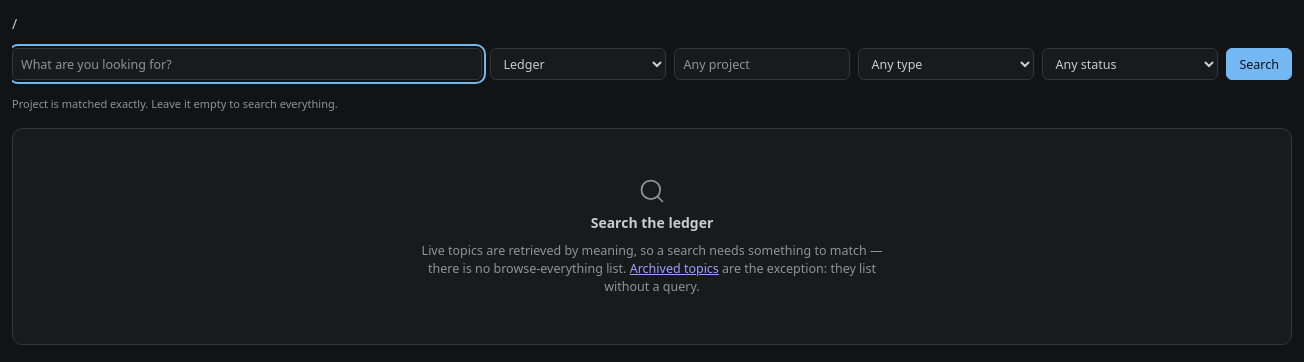
it: SearchView › puts the query and filters in the address so a result set can be sent to someone
Type "same origin" into the search field named "Search the ledger" at (247,64), box [12, 48, 482, 80]
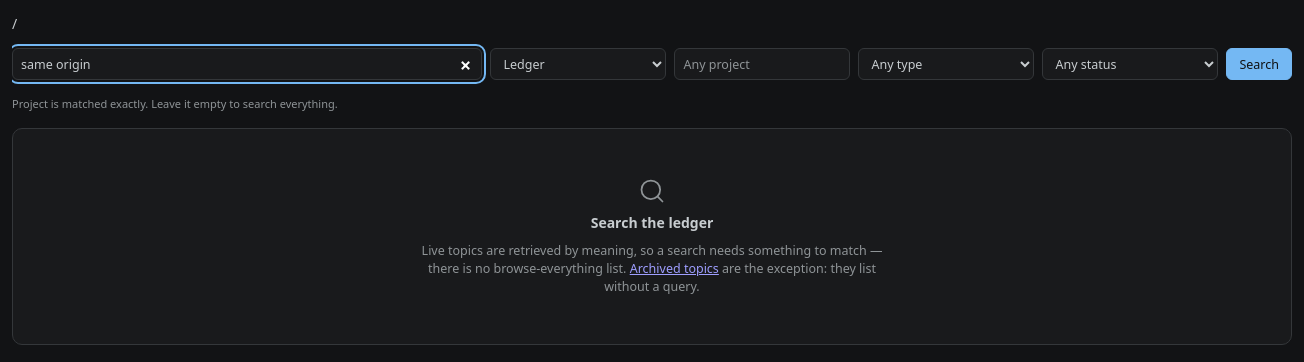
Select "Accepted" in the dropdown named "Status" at (1130,64), box [1042, 48, 1218, 80]
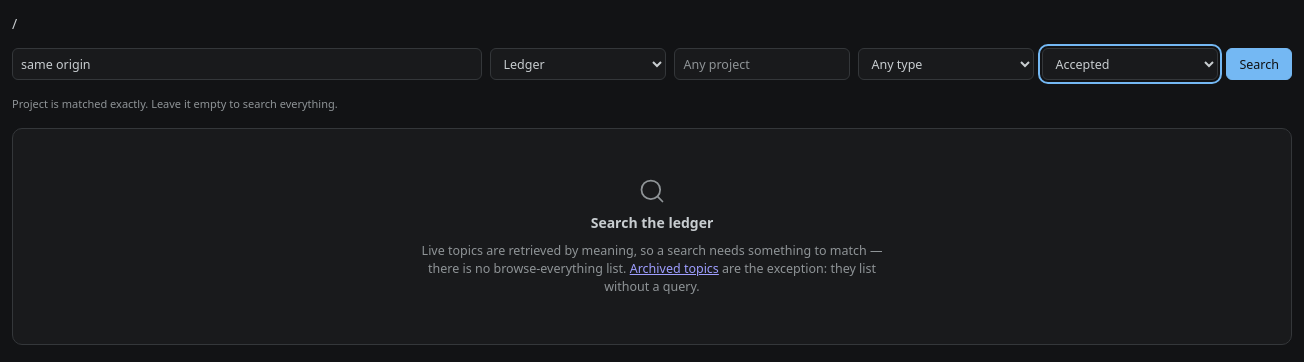
Click the button "Search" at (1259,64), box [1226, 48, 1292, 80]
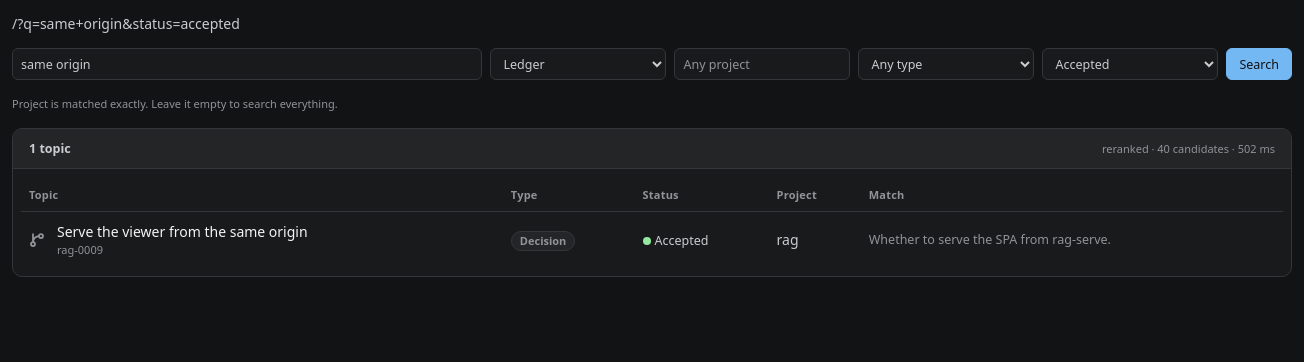
Expected: the text with test id "address" shows "q=same+origin&status=accepted", [17, 14, 240, 33]
